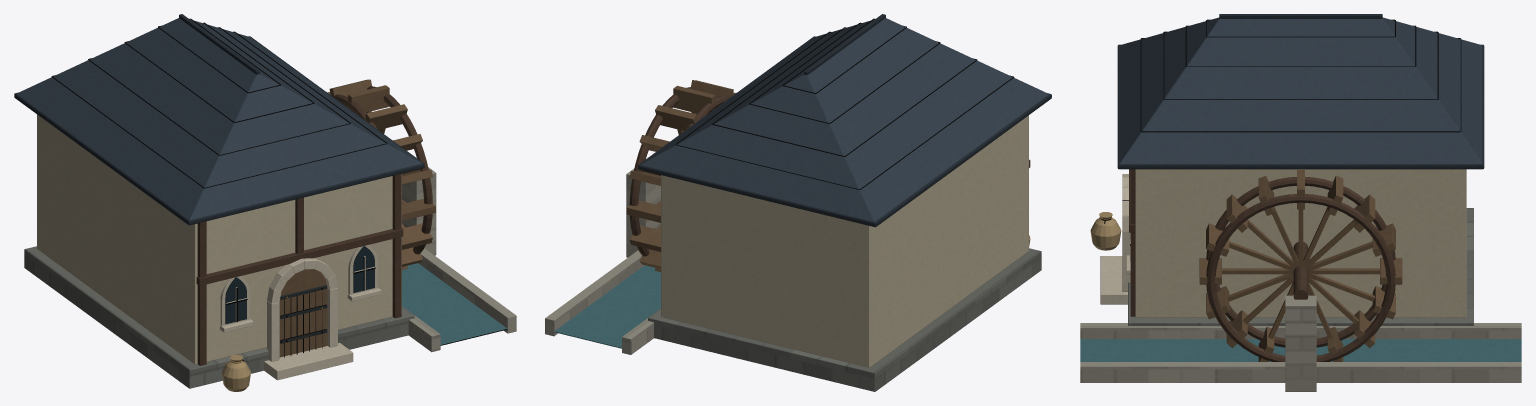
File: Watermill.fbx
The picture shows the model from 3 angles, left to right: view 1: azimuth 30°, elevation 25°; view 2: azimuth 150°, elevation 25°; view 3: azimuth 270°, elevation 25°; orthographic projection. The views are drawn at different scales.
Visible parts, largest first — view 1: Watermill.001; view 2: Watermill.001; view 3: Watermill.001.
Part boxes in pixels (<box>): Watermill.001: <box>14,14,516,391</box>; Watermill.001: <box>545,14,1051,391</box>; Watermill.001: <box>1080,14,1521,391</box>.
Bounding box in the file's own units: 10.76 × 8.16 × 12.
